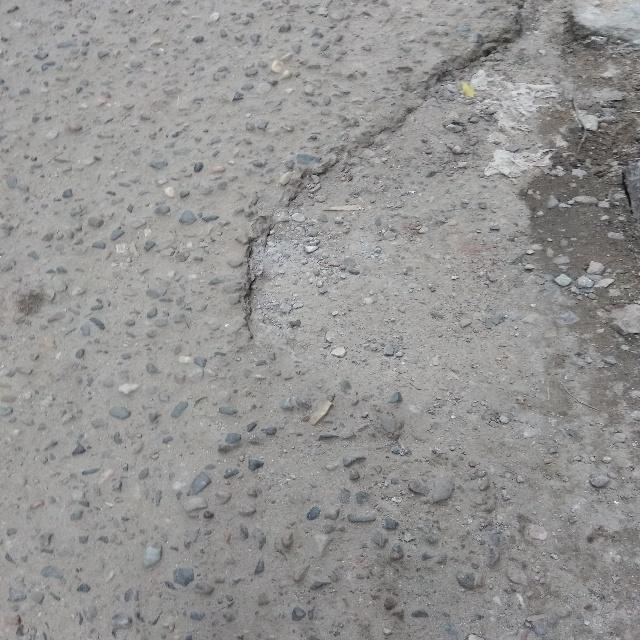Surface Erosion: (124, 21, 604, 519)
